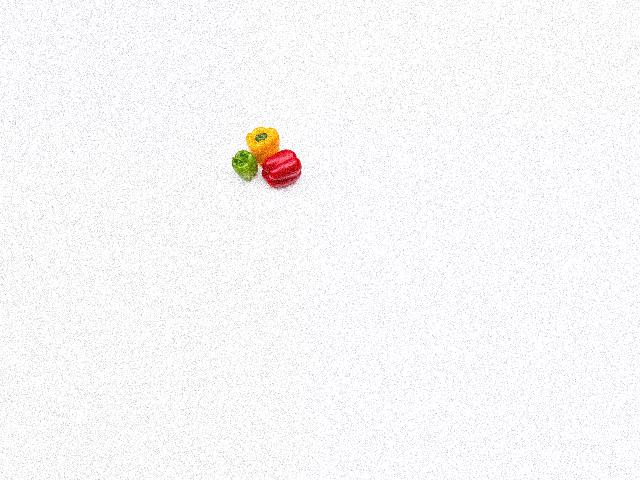bell_pepper: (224, 147, 258, 181)
